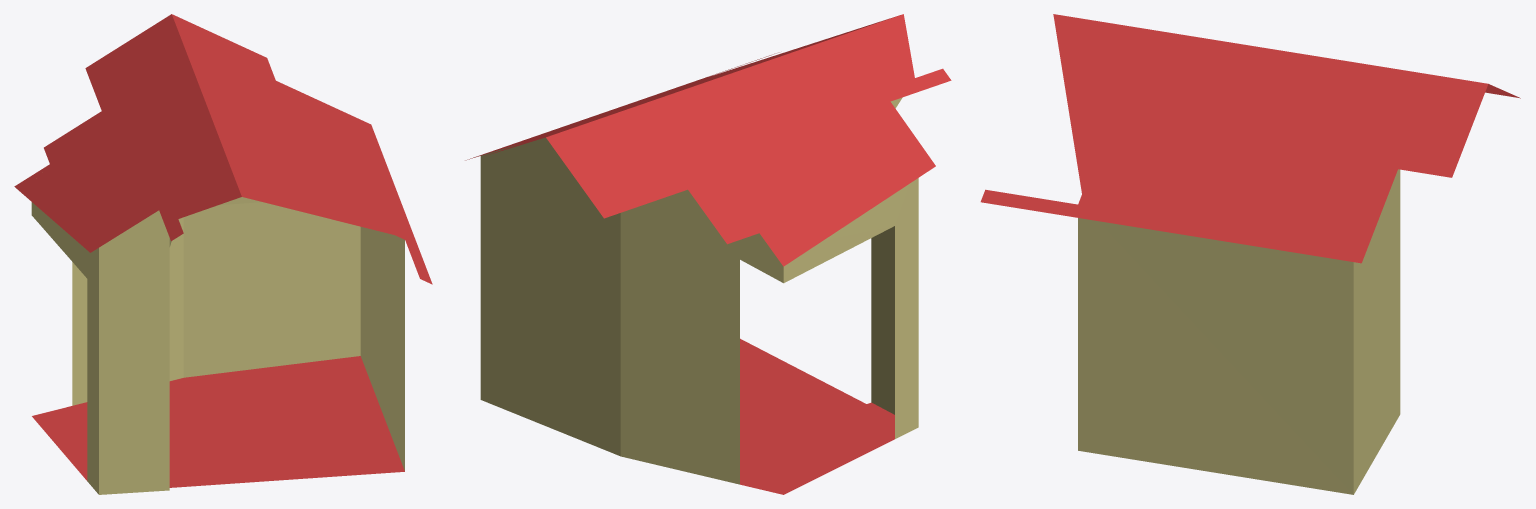
3 views of the same model, side by side, from view 1: azimuth 30°, elevation 25°; view 2: azimuth 150°, elevation 25°; view 3: azimuth 270°, elevation 25° (orthographic). The views are drawn at different scales.
Bounding box in the file's own units: 16.36 × 19.74 × 13.94.
